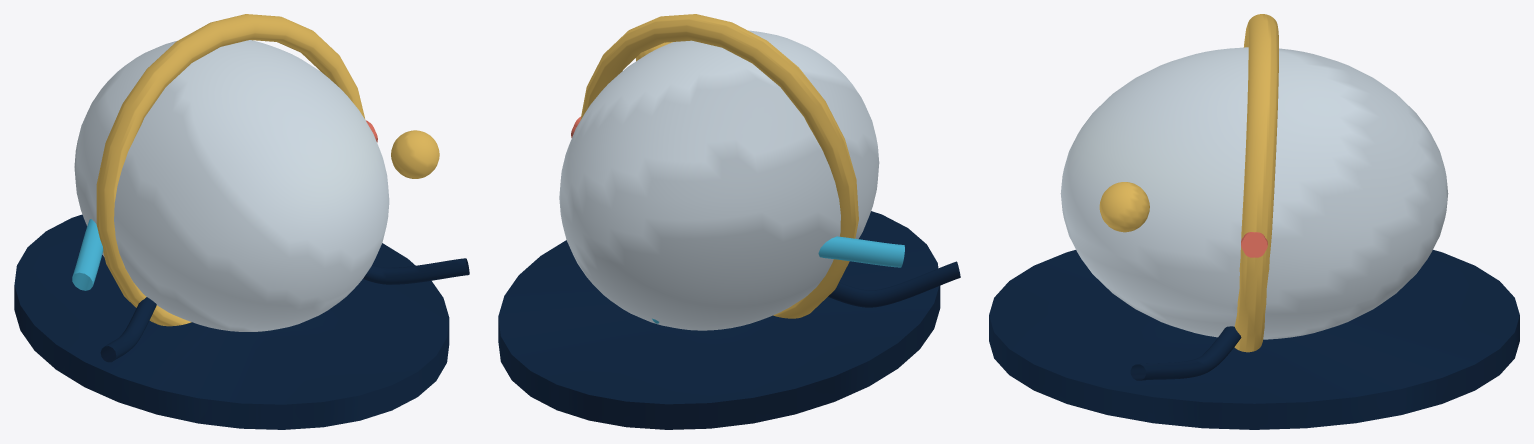
Rendered from 1206_细胞图鉴_线粒体.glb.
The picture shows the model from 3 angles, left to right: view 1: azimuth 30°, elevation 25°; view 2: azimuth 150°, elevation 25°; view 3: azimuth 270°, elevation 25°; orthographic projection. The views are drawn at different scales.
Parts seen in each view (by area): view 1: card_1206; view 2: card_1206; view 3: card_1206.
Boxes of the visible parts, x1,y1,x2,y2 form: card_1206: [14, 14, 469, 429]; card_1206: [498, 14, 960, 429]; card_1206: [989, 14, 1519, 429].
Bounding box in the file's own units: 1.26 × 1 × 1.52.
